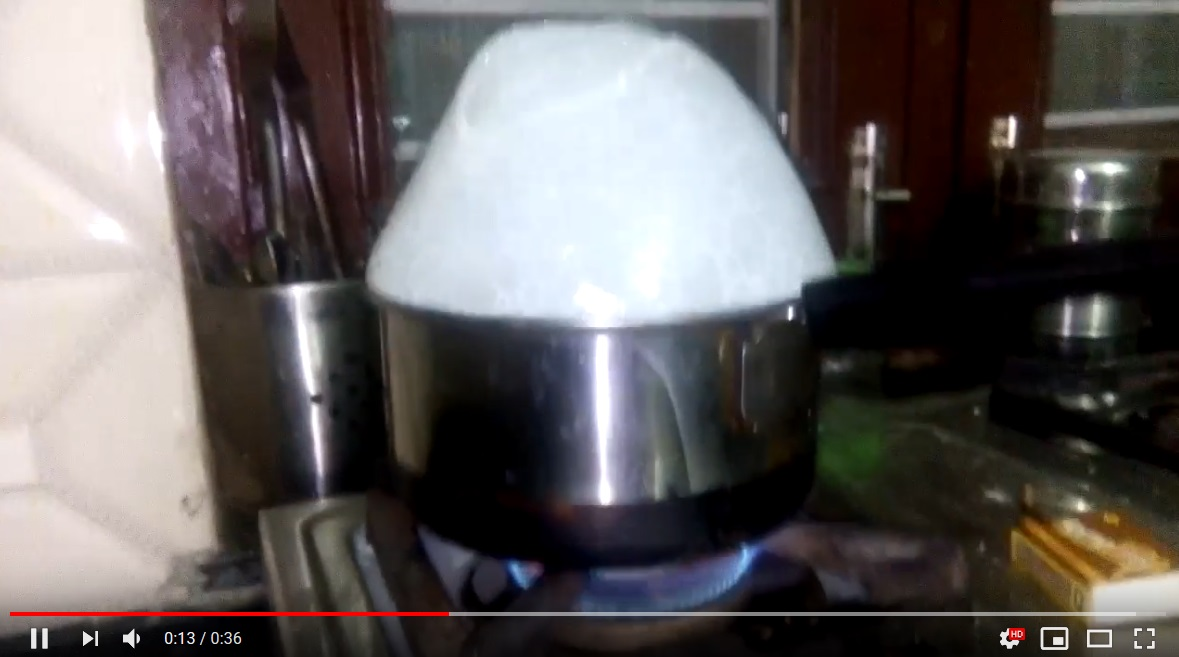Boiled: (376, 15, 889, 541)
